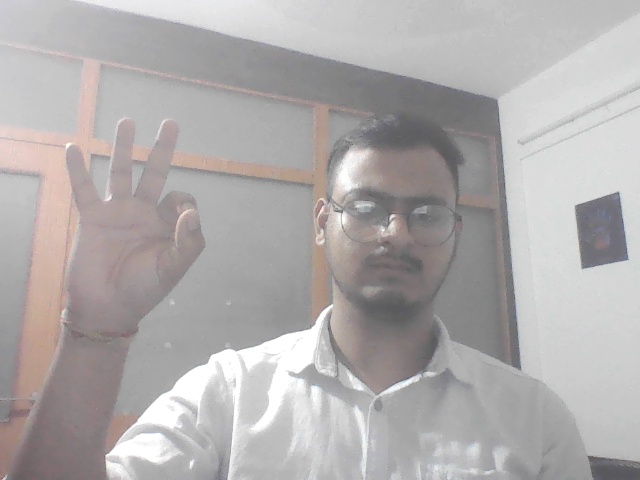OK: (49, 111, 209, 346)
